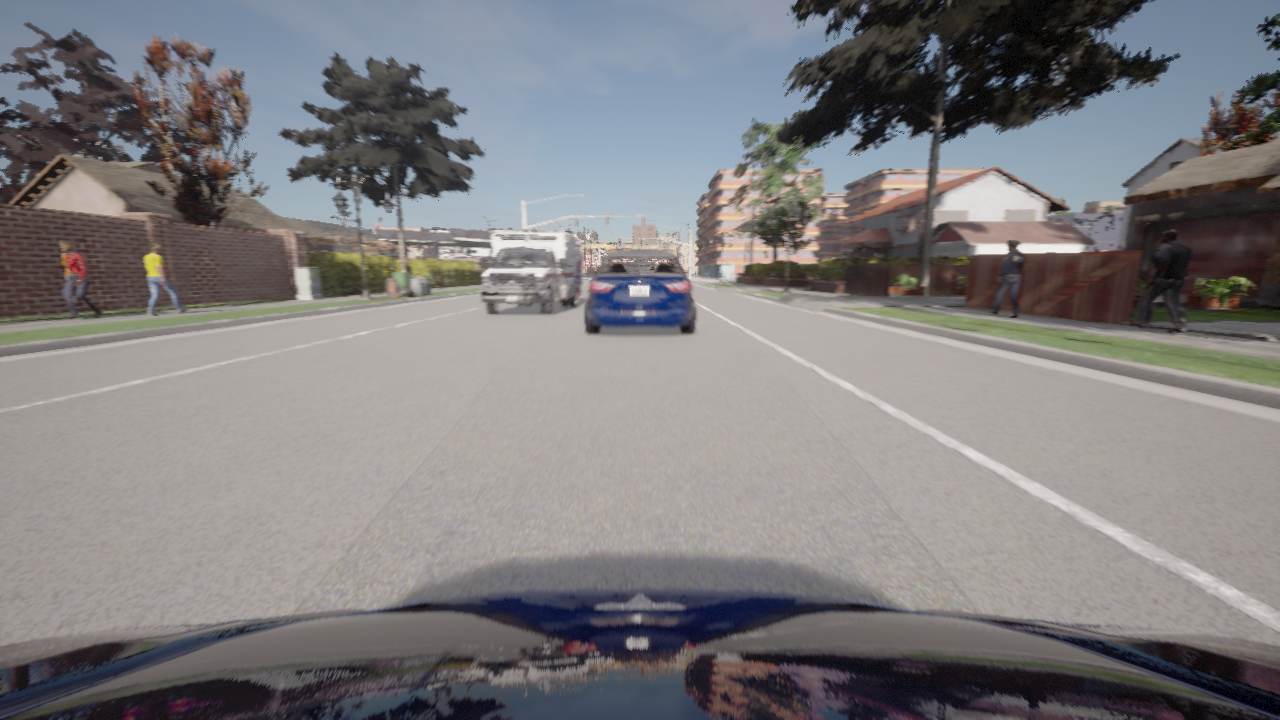cyclist: (0, 588, 1279, 719), (585, 250, 695, 333), (478, 232, 582, 314), (694, 272, 697, 274)
pedestrian: (1129, 229, 1192, 333), (58, 240, 102, 319), (144, 243, 187, 315), (989, 241, 1024, 318)
